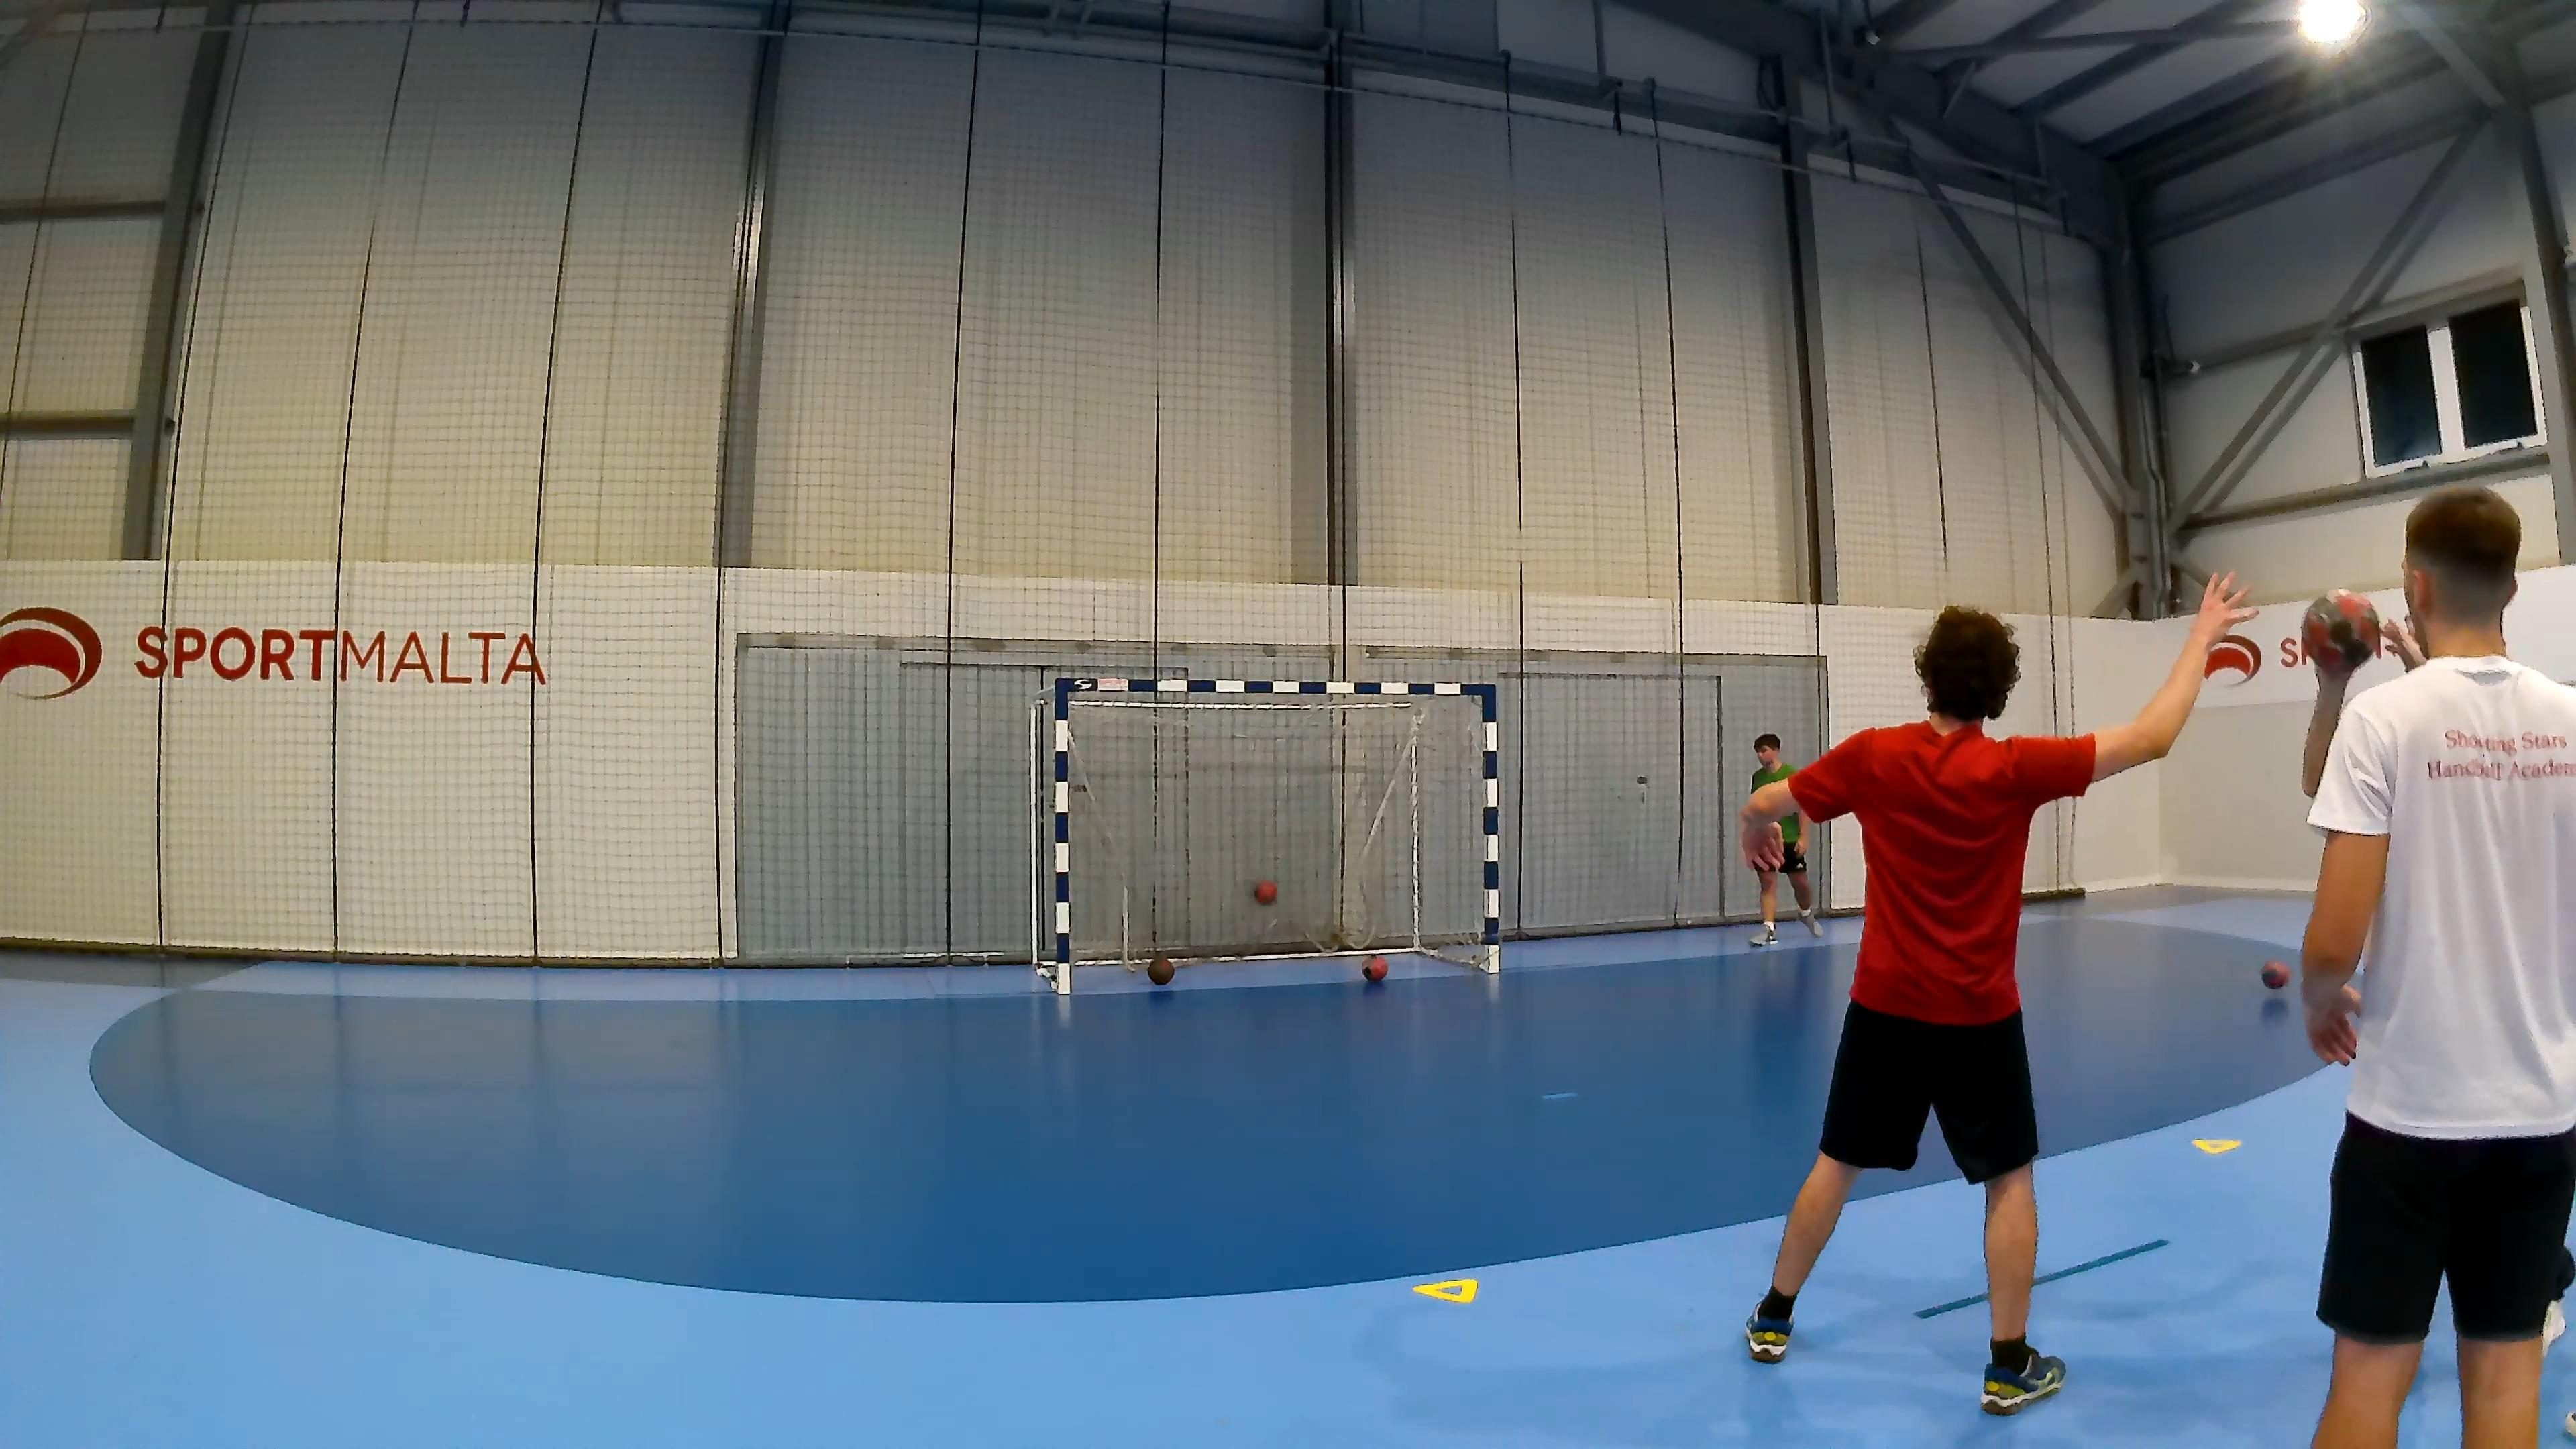handball: (2300, 587, 2380, 672), (1359, 954, 1392, 985), (2259, 964, 2293, 993), (1150, 955, 1173, 987), (1254, 876, 1276, 908)
